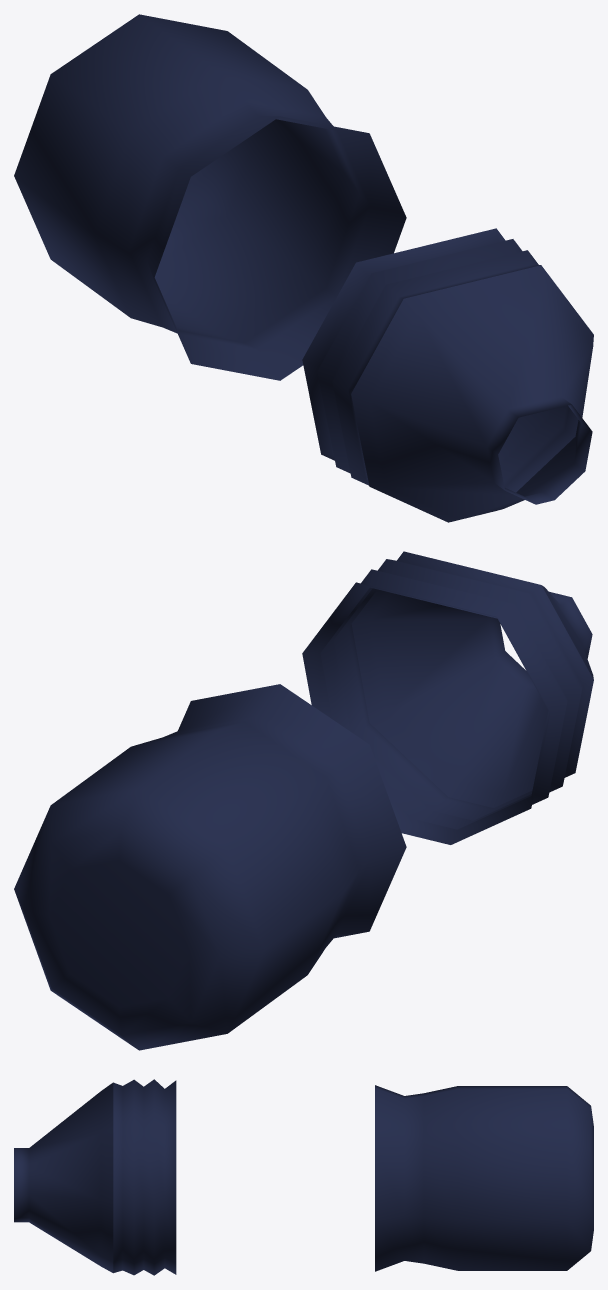
3 renders of one model, top to bottom at view 1: azimuth 30°, elevation 25°; view 2: azimuth 150°, elevation 25°; view 3: azimuth 270°, elevation 25°, orthographic. The views are drawn at different scales.
Bounding box in the file's own units: 0.3177 × 0.3177 × 0.927.
